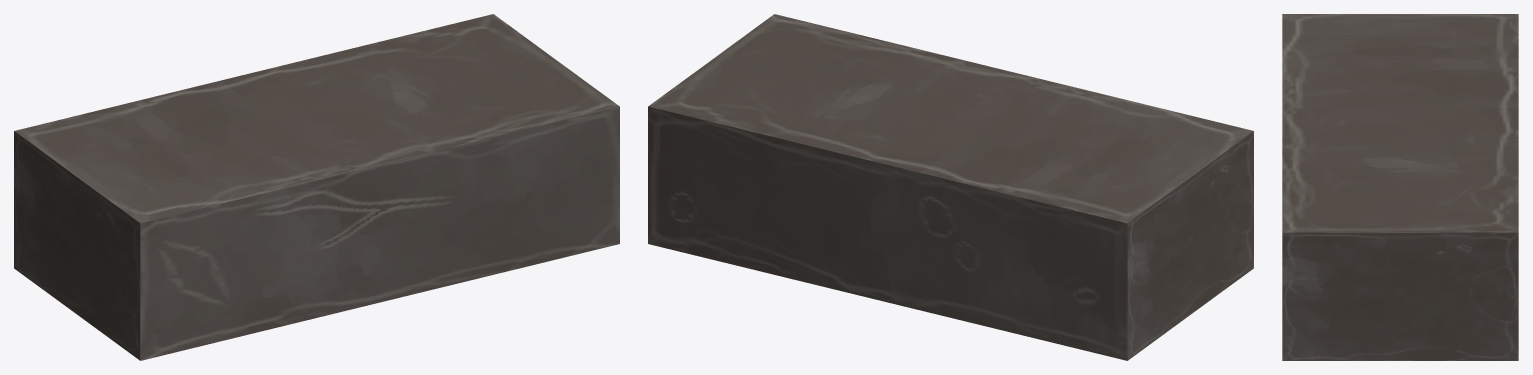
File: StoneBrick_Dark_3.fbx
3 views of the same model, side by side, from view 1: azimuth 30°, elevation 25°; view 2: azimuth 150°, elevation 25°; view 3: azimuth 270°, elevation 25° (orthographic). The views are drawn at different scales.
Parts seen in each view (by area): view 1: pCube24603; view 2: pCube24603; view 3: pCube24603.
Boxes of the visible parts, x1,y1,x2,y2 form: pCube24603: (14,14,619,360); pCube24603: (648,14,1253,360); pCube24603: (1282,14,1518,360).
Size of the model in its own units: 0.7388 by 0.2026 by 0.3373.
